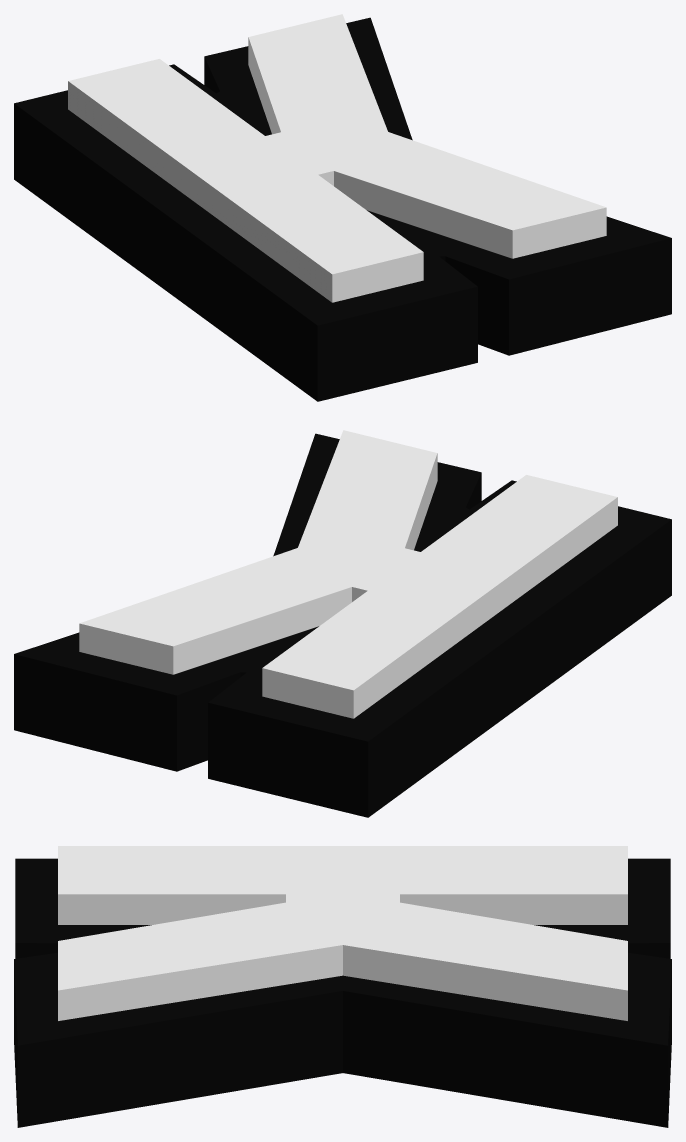
The model's file is txt_k.glb.
3 views of the same model, one above another, from view 1: azimuth 30°, elevation 25°; view 2: azimuth 150°, elevation 25°; view 3: azimuth 270°, elevation 25° (orthographic). The views are drawn at different scales.
Visible parts, largest first — view 1: K.001; view 2: K.001; view 3: K.001.
Part boxes in pixels (left/top/right/bottom): K.001: left=14, top=14, right=671, bottom=401; K.001: left=14, top=430, right=671, bottom=817; K.001: left=14, top=846, right=671, bottom=1127.
Size of the model in its own units: 0.6992 by 0.1966 by 1.04.
1 material, 1 textured.
